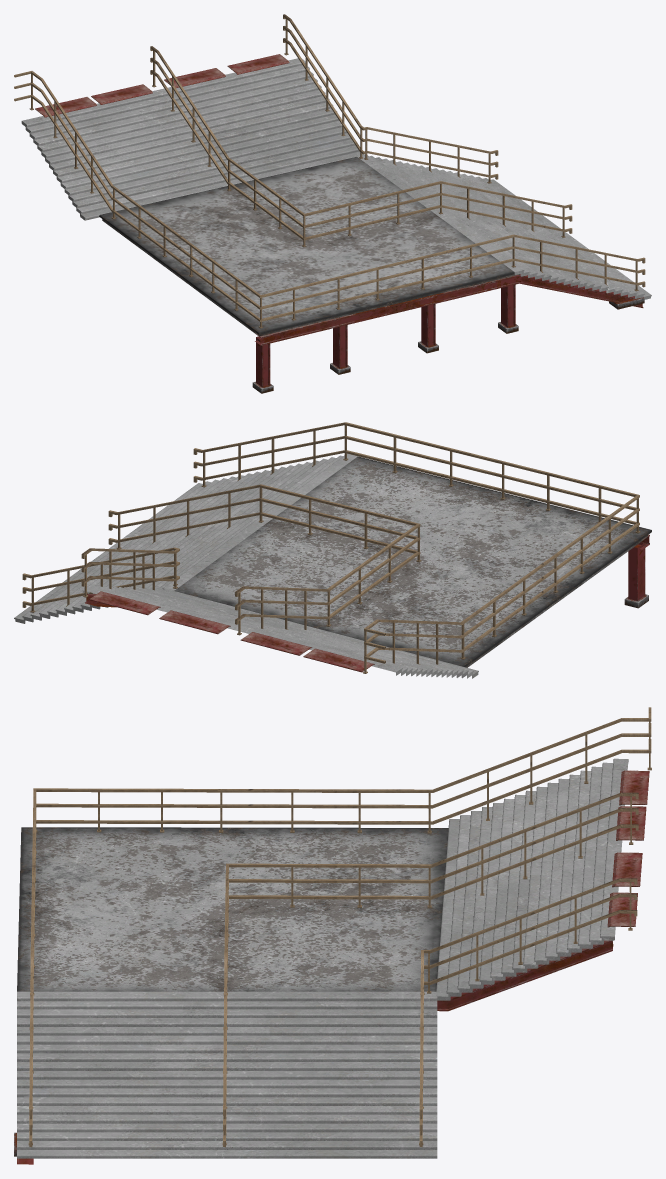
The picture shows the model from 3 angles, top to bottom: view 1: azimuth 30°, elevation 25°; view 2: azimuth 150°, elevation 25°; view 3: azimuth 270°, elevation 25°; orthographic projection. The views are drawn at different scales.
Visible parts, largest first — view 1: Escaleras_Calle; view 2: Escaleras_Calle; view 3: Escaleras_Calle.
Boxes of the visible parts, x1,y1,x2,y2 form: Escaleras_Calle: (14,14,651,393); Escaleras_Calle: (14,422,651,678); Escaleras_Calle: (14,707,651,1164).
Size of the model in its own units: 1410 by 513 by 1453.
Materials: 4 (4 with a texture image).
